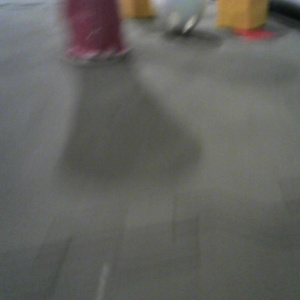middle: (64, 1, 133, 60)
